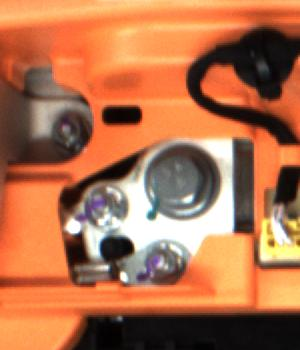nut_b: (145, 144, 223, 224)
